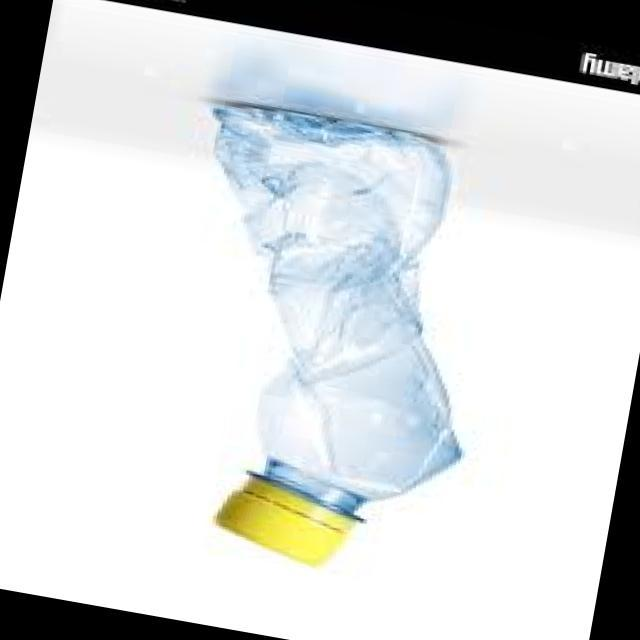defected: (109, 75, 538, 609)
